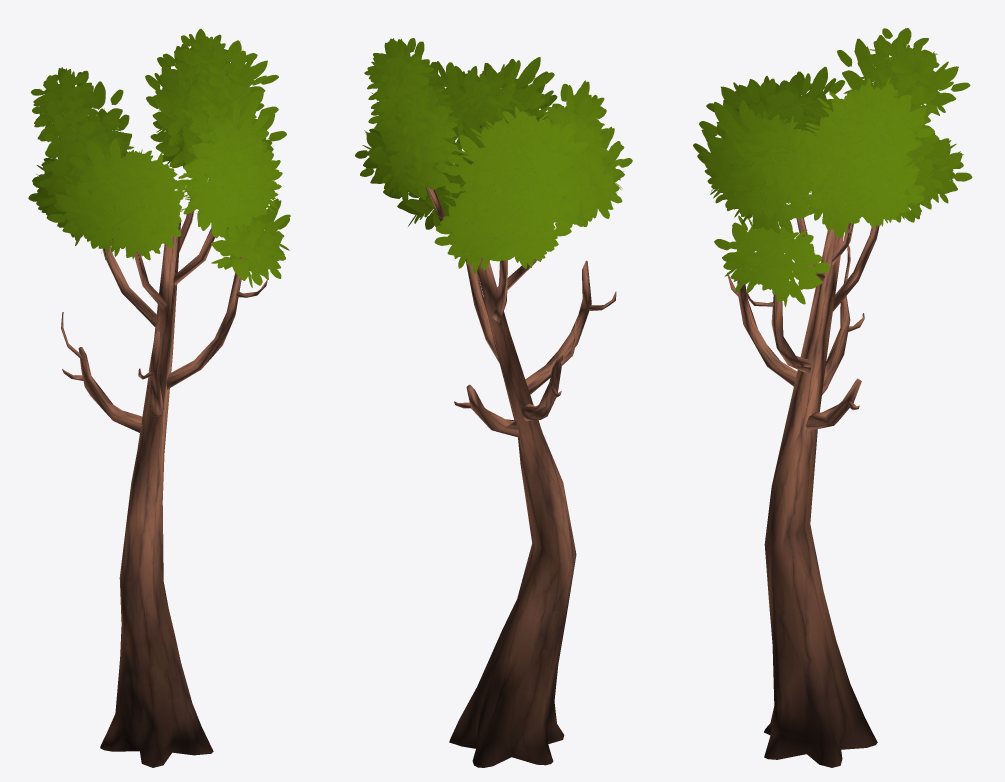
Rendered from commontree-4.glb.
The picture shows the model from 3 angles, left to right: view 1: azimuth 30°, elevation 25°; view 2: azimuth 150°, elevation 25°; view 3: azimuth 270°, elevation 25°; orthographic projection. The views are drawn at different scales.
Visible parts, largest first — view 1: CommonTree_4; view 2: CommonTree_4; view 3: CommonTree_4.
Boxes of the visible parts, <box> form: CommonTree_4: <box>28,28,290,767</box>; CommonTree_4: <box>355,38,632,767</box>; CommonTree_4: <box>693,28,972,767</box>.
Bounding box in the file's own units: 3.83 × 9.45 × 3.75.
Materials: 2 (2 with a texture image).
